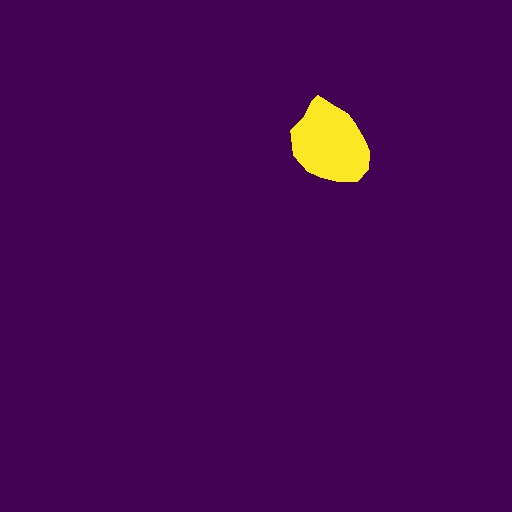Gliomia_tumour: (290, 95, 370, 182)
